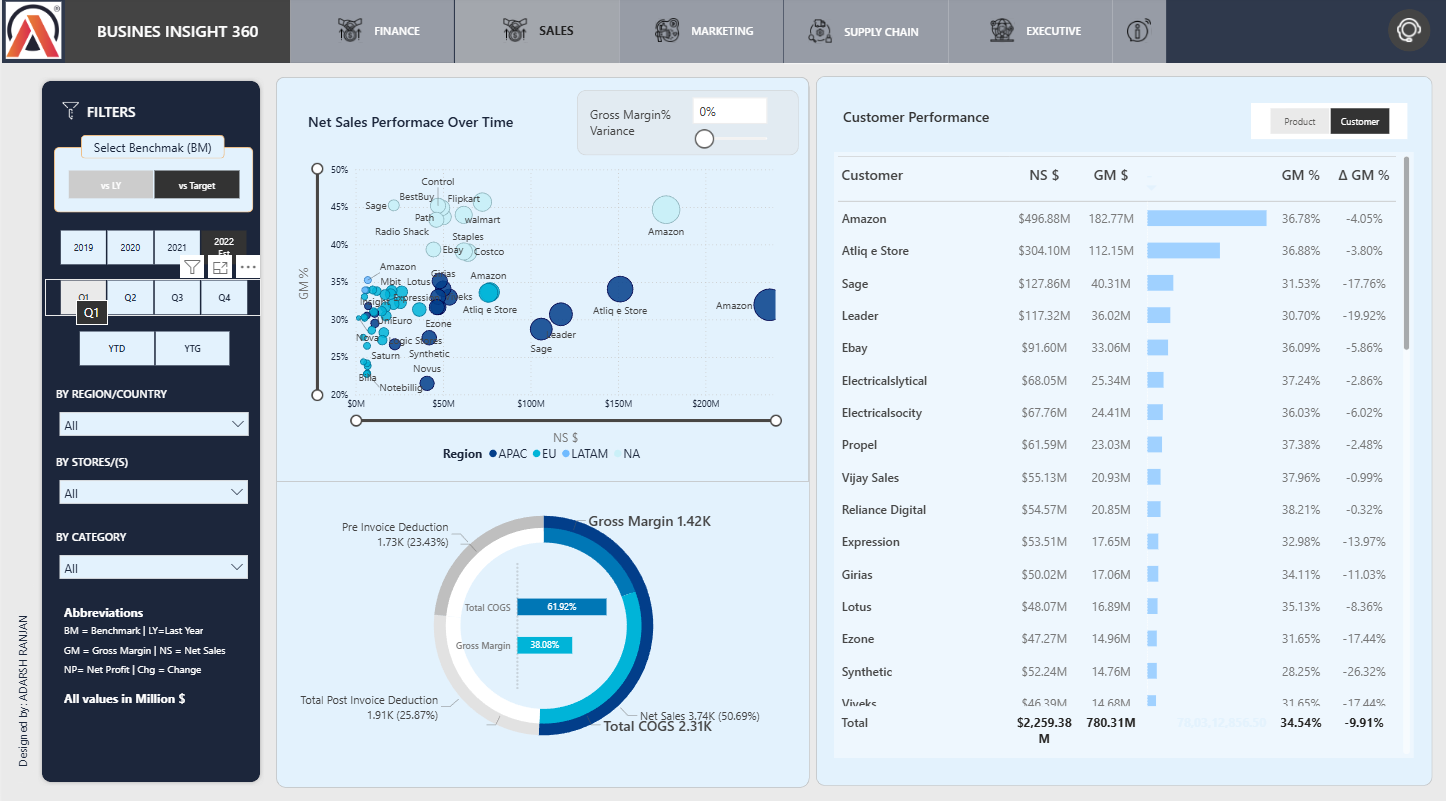

What the dashboard file says about the page in this screenshot:
{"tool":"powerbi","page":{"name":" Sales View ","canvas":[1920,1080],"ordinal":2},"visuals":[{"type":"shape","box":[364.7,106.1,709.9,945.7],"z":0},{"type":"shape","box":[764.8,123.1,295,86.9],"z":0,"group":"g2"},{"type":"shape","box":[68.9,199.7,265.1,87.1],"z":0,"group":"g5"},{"type":"donutChart","fields":{"Y":["Key Measures.P & L values"],"Category":["P & L Rows.Description"]},"box":[384.2,639.1,671.7,395.1],"z":0,"group":"g3"},{"type":"group","id":"g1","title":"Group 3","box":[82.9,830.3,265.1,74.2],"z":0,"group":"g6"},{"type":"shape","box":[83.2,830.3,263.3,24],"z":0,"group":"g1"},{"type":"shape","box":[46.6,105.1,303.3,945.7],"z":1000,"group":"g4"},{"type":"shape","box":[1082.9,105.7,820,944.3],"z":1000},{"type":"slicer","fields":{"Values":["Target Gap Tolerance.Target Gap Tolerance"]},"box":[905.7,123.1,133,86.9],"z":1000,"group":"g2"},{"type":"slicer","fields":{"Values":["Set BM.Benchmarks"]},"box":[68.2,229.2,266.5,41.4],"z":1000,"group":"g5"},{"type":"donutChart","fields":{"Y":["Key Measures.P & L values"],"Category":["P & L Rows.Description"]},"box":[400,661.5,640.1,350.3],"z":1000,"group":"g3"},{"type":"shape","box":[82.9,801.8,236.9,33.7],"z":1000,"group":"g6"},{"type":"shape","box":[82.9,856.6,263.6,22.8],"z":1000,"group":"g1"},{"type":"shape","box":[364.7,106.7,709,538.7],"z":2000},{"type":"shape","box":[781.9,142.9,123.8,46.1],"z":2000,"group":"g2"},{"type":"shape","box":[106,184,191,31.4],"z":2000,"group":"g5"},{"type":"slicer","fields":{"Values":["fiscal_year.fy_desc"]},"box":[57,308.9,287.3,48.5],"z":2000,"group":"g4"},{"type":"clusteredBarChart","fields":{"Category":["P & L Rows.Description"],"Y":["Divide(Key Measures.P & L values, ScopedEval(Key Measures.P & L values, []))"]},"box":[602.8,747.1,201.5,176.5],"z":2000,"group":"g3"},{"type":"shape","box":[82.9,881.7,265.1,22.8],"z":2000,"group":"g1"},{"type":"pivotTable","fields":{"Rows":["dim_customer.customer"],"Values":["Key Measures.NS $","Key Measures.GM $","Key Measures.GM $ BAR","Key Measures.GM %","Key Measures.Δ GM %"]},"box":[1106.9,205.5,771.1,805.6],"z":3000},{"type":"shape","box":[82.4,916,237.4,32],"z":3000,"group":"g4"},{"type":"scatterChart","fields":{"Category":["dim_customer.customer"],"X":["Key Measures.NS $"],"Size":["Key Measures.NS $"],"Y":["Key Measures.GM %"],"Series":["dim_market.region"]},"box":[372.3,216,695.4,412.2],"z":4000},{"type":"shape","box":[406.6,138.6,277.9,54],"z":5000},{"type":"slicer","fields":{"Values":["dim_date.quarters"]},"box":[57,375.7,287.9,48.5],"z":5000,"group":"g4"},{"type":"shape","box":[1118.6,134.3,279.7,48.4],"z":6000},{"type":"group","id":"g2","title":"Group 2","box":[764.8,123.1,295,86.9],"z":7000},{"type":"slicer","fields":{"Values":["dim_date.ytd_ytg"]},"box":[82.6,442.6,239.4,48.5],"z":7000,"group":"g4"},{"type":"slicer","fields":{"Values":["Param 003: Sales page Product - Store.Param 003: Sales page Product - Store"]},"box":[1661.8,141.4,208,48],"z":8000},{"type":"slicer","title":"BY REGION/COUNTRY","fields":{"Values":["dim_market.region","dim_market.market"]},"box":[72.1,517.5,266,91],"z":9000,"group":"g4"},{"type":"group","id":"g3","title":"Group 3","box":[384.2,639.1,671.7,395.1],"z":9000},{"type":"slicer","title":"BY CATEGORY","fields":{"Values":["dim_product.segment"]},"box":[72.1,707.3,264.9,91],"z":11000,"group":"g4"},{"type":"group","id":"g4","title":"Group 6","box":[46.6,105.1,303.3,945.7],"z":12000},{"type":"shape","box":[0,0,1920.6,87.8],"z":13000},{"type":"slicer","title":"BY STORES/(S)","fields":{"Values":["dim_customer.customer"]},"box":[72.1,607.4,264.9,99.9],"z":13000,"group":"g4"},{"type":"actionButton","box":[820.9,0,218.6,88],"z":14000},{"type":"actionButton","box":[1039.5,1.3,218.6,88],"z":15000},{"type":"shape","box":[113.4,125.2,70.9,52.6],"z":15000,"group":"g4"},{"type":"actionButton","box":[1258.2,0,218.6,88],"z":16000},{"type":"shape","box":[83.2,0,300,87.6],"z":17000},{"type":"group","id":"g5","title":"Group 1","box":[68.2,184,266.5,102.7],"z":17000,"group":"g4"},{"type":"actionButton","box":[1476.4,0,72.4,88.2],"z":18000},{"type":"image","box":[0,1.3,83.8,86.5],"z":19000},{"type":"image","box":[71.3,131.8,39.4,39.5],"z":19000,"group":"g4"},{"type":"actionButton","box":[383.7,0,218.4,87.7],"z":20000},{"type":"actionButton","title":"AB Signature","box":[8.6,768.9,34.5,275.9],"z":21000},{"type":"actionButton","box":[602.3,0,218.6,88],"z":22000},{"type":"actionButton","title":"Support Button","box":[1844,16,56.6,56.6],"z":23000},{"type":"group","id":"g6","title":"Group 5","box":[82.9,801.8,265.1,102.7],"z":37002,"group":"g4"}]}

Visuals, with their boxes in screenshot pixels (x1, y1, x2, y2), scaled from the page's 1920x1080 canvas onto the 1446x801 screenshot:
shape: rect(275, 79, 809, 780)
shape: rect(576, 91, 798, 156)
shape: rect(52, 148, 252, 213)
donutChart - Key Measures.P & L values x P & L Rows.Description: rect(289, 474, 795, 767)
"Group 3" group: rect(62, 616, 262, 671)
shape: rect(63, 616, 261, 634)
shape: rect(35, 78, 264, 779)
shape: rect(816, 78, 1433, 779)
slicer - Target Gap Tolerance.Target Gap Tolerance: rect(682, 91, 782, 156)
slicer - Set BM.Benchmarks: rect(51, 170, 252, 201)
donutChart - Key Measures.P & L values x P & L Rows.Description: rect(301, 491, 783, 750)
shape: rect(62, 595, 241, 620)
shape: rect(62, 635, 261, 652)
shape: rect(275, 79, 809, 479)
shape: rect(589, 106, 682, 140)
shape: rect(80, 136, 224, 160)
slicer - fiscal_year.fy_desc: rect(43, 229, 259, 265)
clusteredBarChart - P & L Rows.Description x Divide(Key Measures.P & L values, ScopedEval(Key Measures.P & L values, [])): rect(454, 554, 606, 685)
shape: rect(62, 654, 262, 671)
pivotTable - dim_customer.customer x Key Measures.NS $: rect(834, 152, 1414, 750)
shape: rect(62, 679, 241, 703)
scatterChart - dim_customer.customer x Key Measures.NS $: rect(280, 160, 804, 466)
shape: rect(306, 103, 516, 143)
slicer - dim_date.quarters: rect(43, 279, 260, 315)
shape: rect(842, 100, 1053, 136)
"Group 2" group: rect(576, 91, 798, 156)
slicer - dim_date.ytd_ytg: rect(62, 328, 243, 364)
slicer - Param 003: Sales page Product - Store.Param 003: Sales page Product - Store: rect(1252, 105, 1408, 140)
"BY REGION/COUNTRY" slicer: rect(54, 384, 255, 451)
"Group 3" group: rect(289, 474, 795, 767)
"BY CATEGORY" slicer: rect(54, 525, 254, 592)
"Group 6" group: rect(35, 78, 264, 779)
shape: rect(0, 0, 1445, 65)
"BY STORES/(S)" slicer: rect(54, 450, 254, 525)
actionButton: rect(618, 0, 783, 65)
actionButton: rect(783, 1, 948, 66)
shape: rect(85, 93, 139, 132)
actionButton: rect(948, 0, 1112, 65)
shape: rect(63, 0, 289, 65)
"Group 1" group: rect(51, 136, 252, 213)
actionButton: rect(1112, 0, 1166, 65)
image: rect(0, 1, 63, 65)
image: rect(54, 98, 83, 127)
actionButton: rect(289, 0, 453, 65)
"AB Signature" actionButton: rect(6, 570, 32, 775)
actionButton: rect(454, 0, 618, 65)
"Support Button" actionButton: rect(1389, 12, 1431, 54)
"Group 5" group: rect(62, 595, 262, 671)
